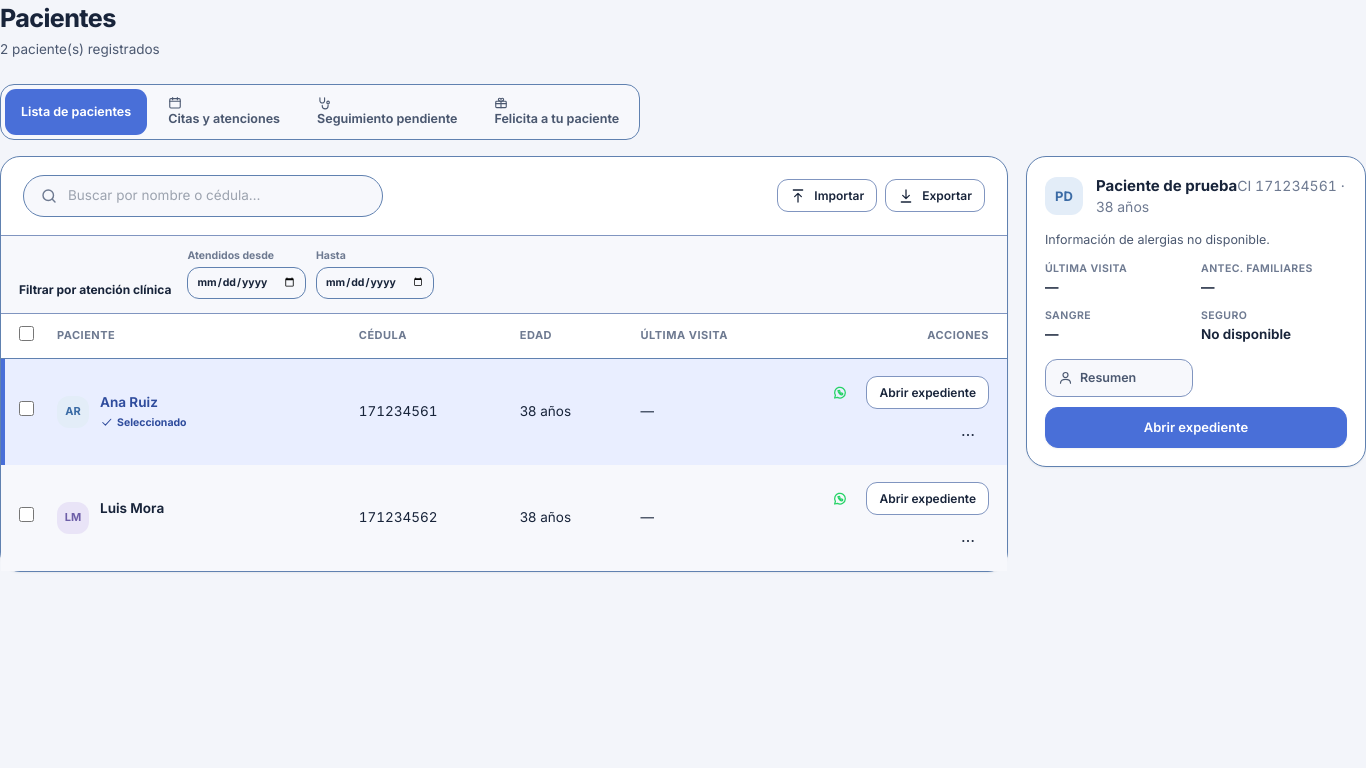
Test case: Eliminar pacientes › keeps failed patients selected so they can be retried
Click the checkbox named "Marcar a Ana Ruiz" at [26, 409], box [19, 401, 34, 416]
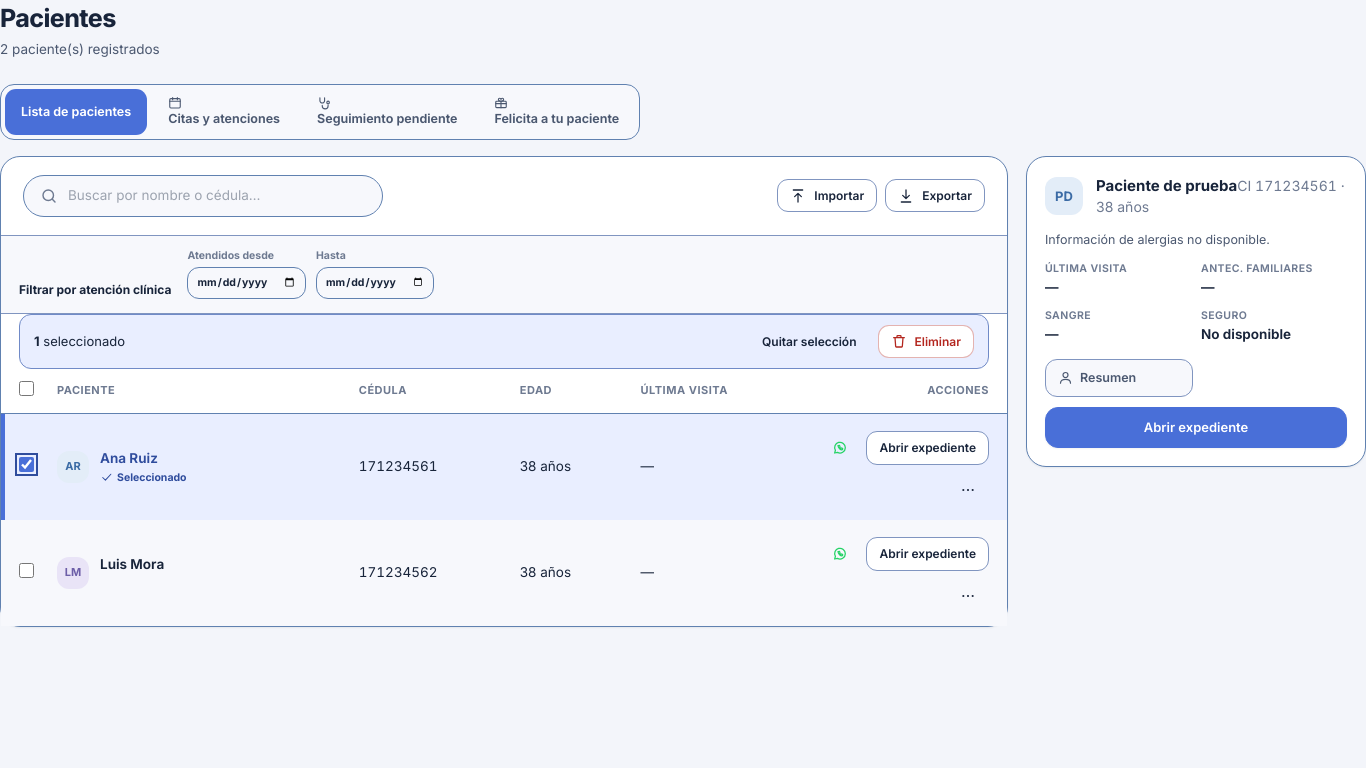
Click the checkbox named "Marcar a Luis Mora" at [26, 570], box [19, 563, 34, 578]
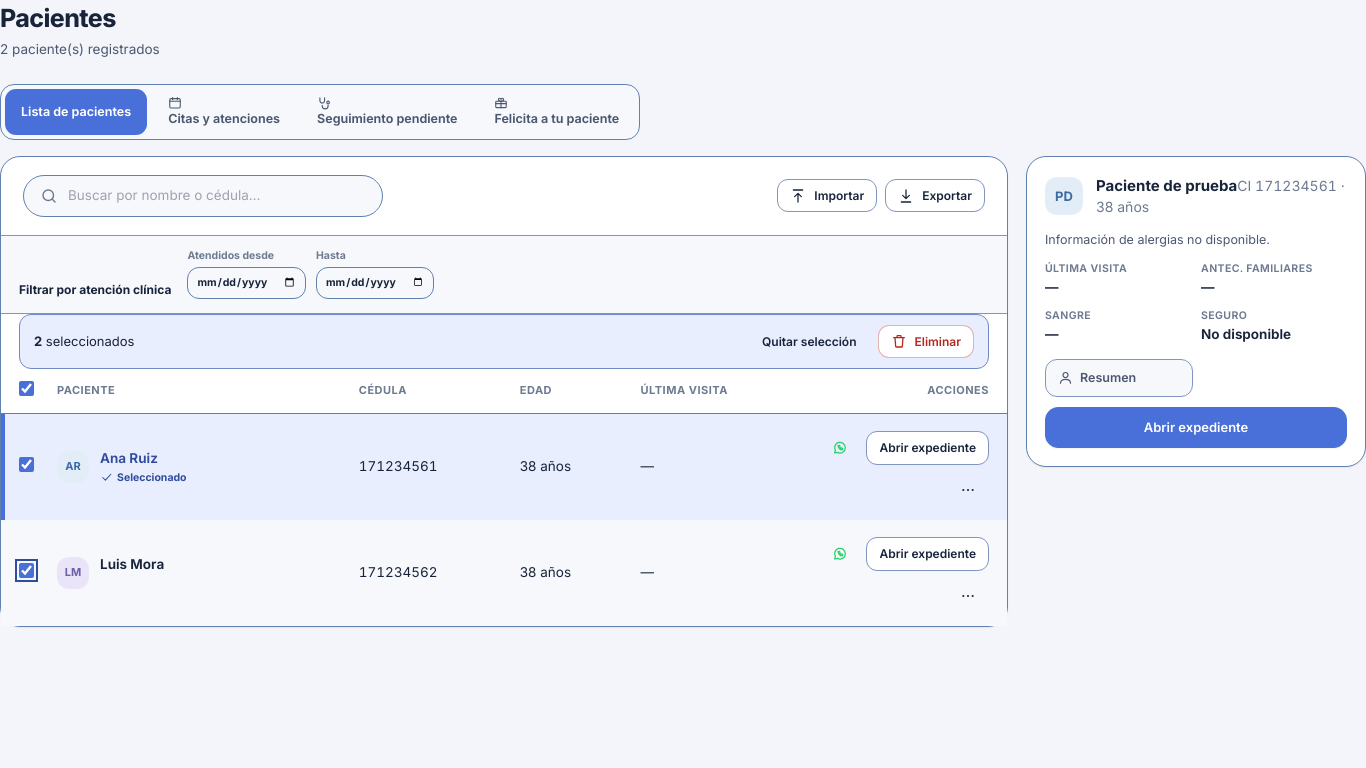
Click the button "Eliminar" at [926, 341], box [878, 325, 974, 358]
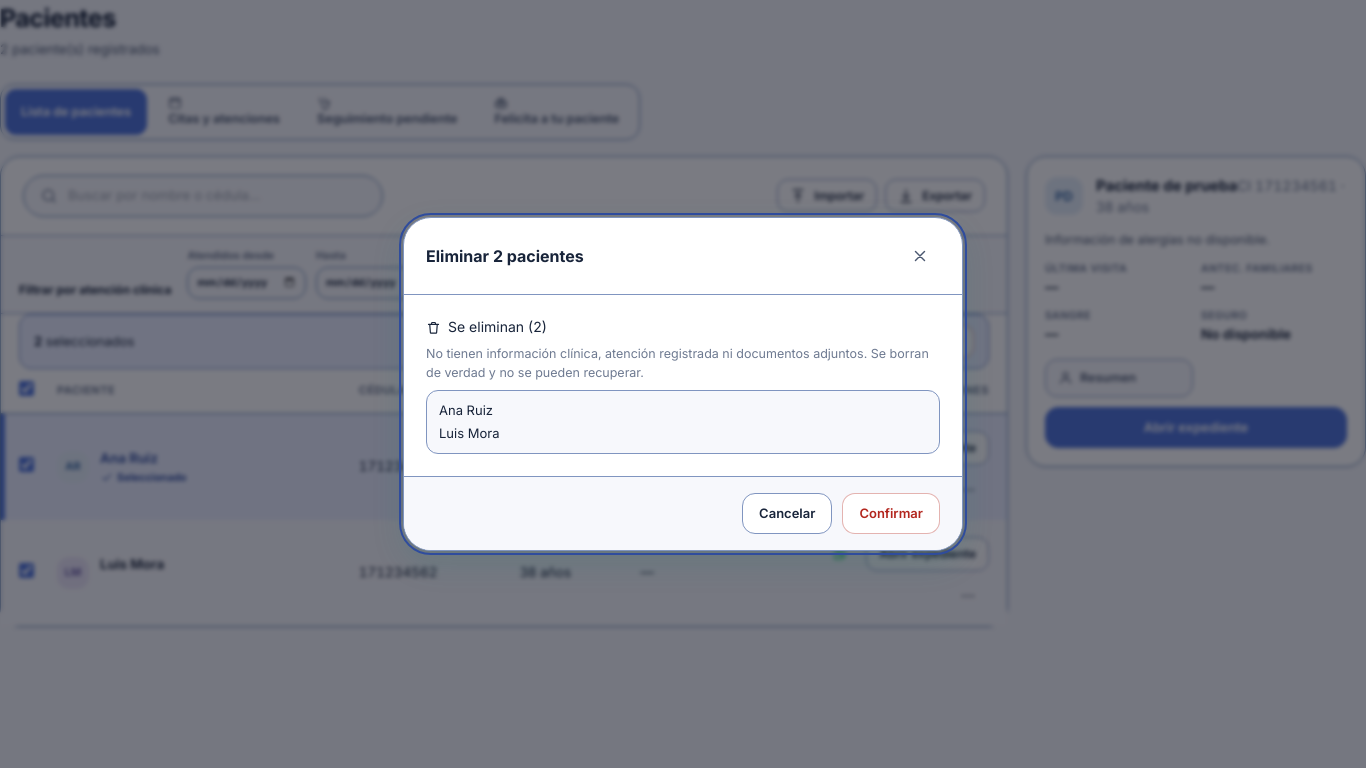
Click the button "Confirmar" at [891, 513], box [842, 493, 940, 534]
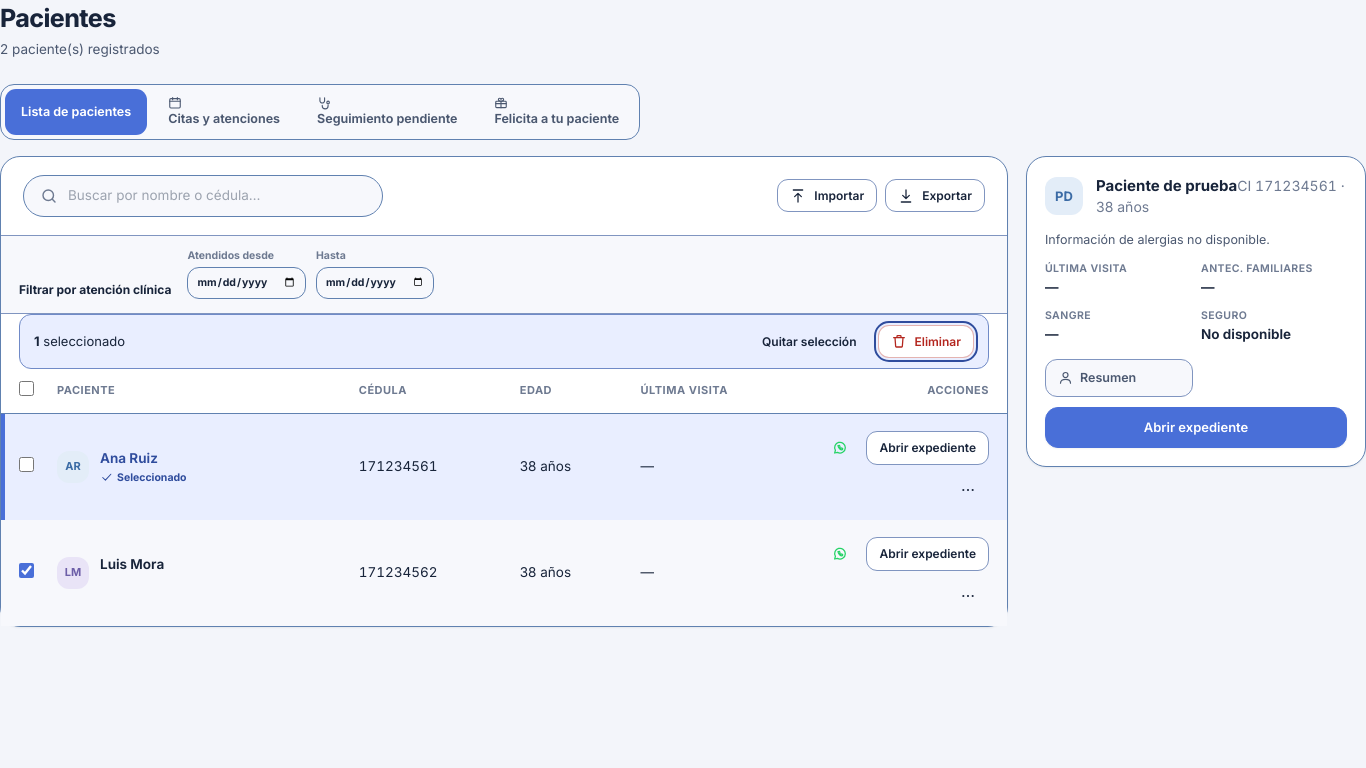
Expected: the checkbox named "Marcar a Luis Mora" is checked, [19, 563, 34, 578]
Expected: the button "Quitar selección" is shown, [749, 325, 870, 358]
Expected: the dialog is gone
